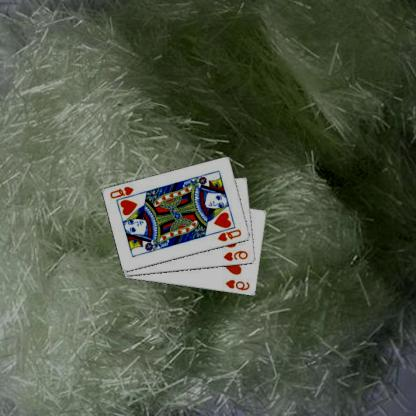6H: (225, 278, 253, 292)
9H: (223, 248, 251, 262)
QH: (110, 184, 141, 203), (217, 227, 244, 243)
